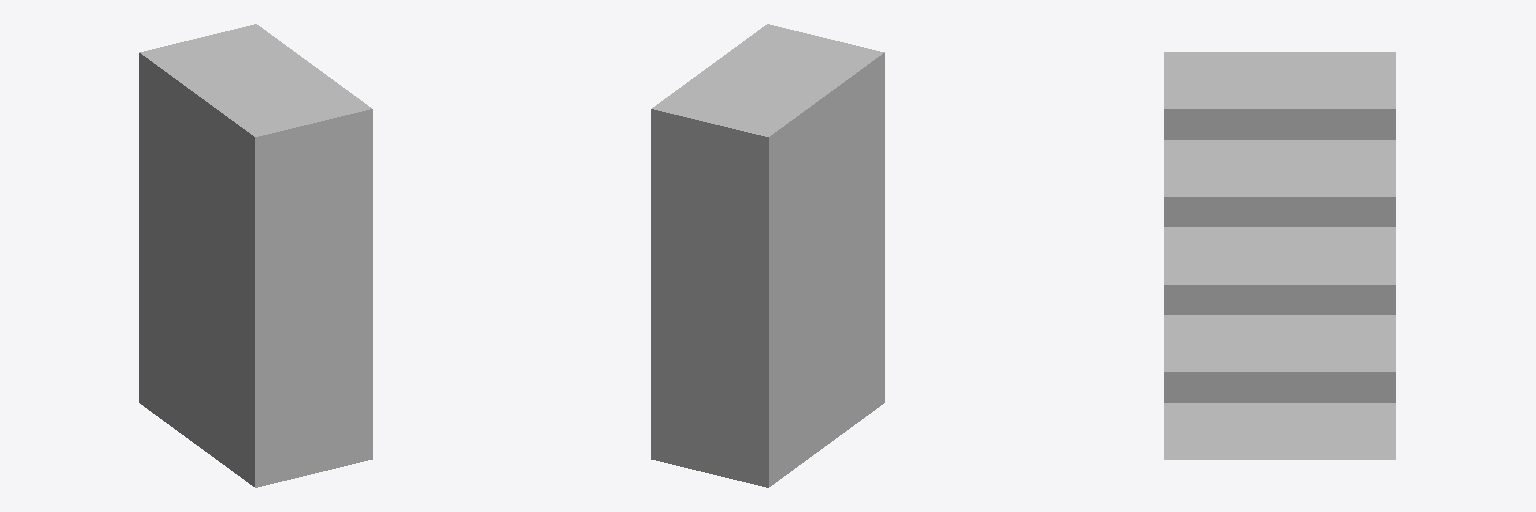
Rendered from shelf.obj.
3 renders of one model, left to right at view 1: azimuth 30°, elevation 25°; view 2: azimuth 150°, elevation 25°; view 3: azimuth 270°, elevation 25°, orthographic.
Size of the model in its own units: 1.4 by 4 by 2.4.